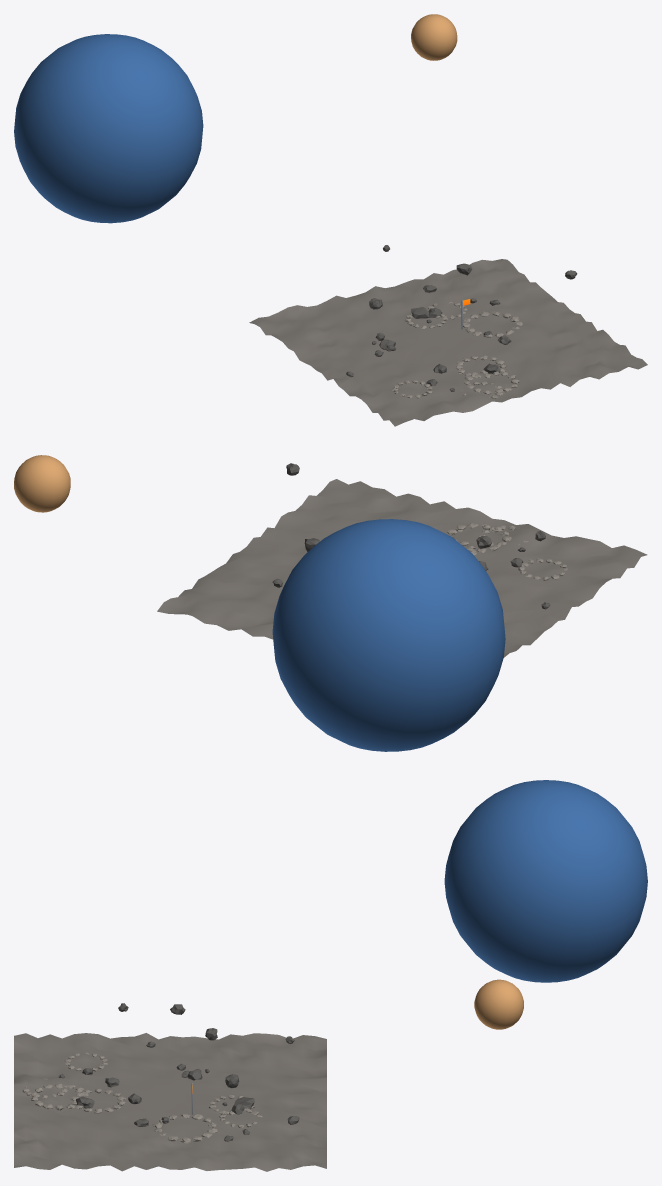
File: loc_space.glb
The picture shows the model from 3 angles, top to bottom: view 1: azimuth 30°, elevation 25°; view 2: azimuth 150°, elevation 25°; view 3: azimuth 270°, elevation 25°; orthographic projection. The views are drawn at different scales.
Visible parts, largest first — view 1: Sp_Ground, Sp_Planet, Sp_Moon; view 2: Sp_Planet, Sp_Ground, Sp_Moon; view 3: Sp_Ground, Sp_Planet, Sp_Moon.
Boxes of the visible parts, x1,y1,x2,y2 form: Sp_Ground: (249, 259, 647, 426); Sp_Planet: (14, 34, 203, 223); Sp_Moon: (411, 14, 457, 60); Sp_Planet: (272, 519, 505, 751); Sp_Ground: (157, 479, 647, 657); Sp_Moon: (14, 455, 70, 512); Sp_Ground: (14, 1033, 326, 1171); Sp_Planet: (444, 780, 647, 982); Sp_Moon: (474, 979, 523, 1029).
Size of the model in its own units: 32.09 by 16.36 by 40.5.
